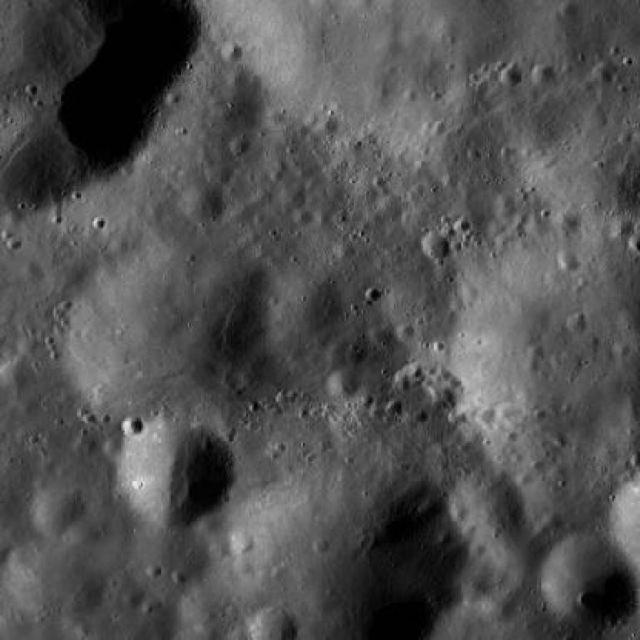crater: (65, 233, 288, 442), (116, 415, 236, 528), (541, 533, 640, 629), (8, 534, 104, 626), (270, 265, 346, 338), (447, 468, 524, 540), (180, 580, 242, 640), (492, 526, 548, 580), (34, 488, 88, 538), (447, 556, 496, 604), (182, 184, 222, 221), (482, 590, 518, 624), (67, 518, 101, 551), (326, 370, 359, 401), (422, 232, 451, 260), (435, 16, 463, 42), (378, 194, 404, 220), (0, 362, 26, 388), (196, 513, 222, 536), (228, 201, 252, 224), (554, 212, 578, 234), (532, 63, 556, 85), (421, 498, 444, 520), (370, 323, 393, 345), (611, 216, 634, 238), (230, 530, 253, 552), (314, 115, 338, 136), (208, 160, 230, 182), (500, 66, 523, 86), (558, 249, 580, 269), (209, 537, 231, 557), (234, 556, 256, 576), (222, 40, 244, 60), (285, 186, 307, 206), (378, 36, 400, 56), (124, 417, 144, 437), (124, 588, 144, 607), (294, 208, 314, 227), (593, 65, 613, 84), (568, 314, 588, 332), (587, 110, 607, 128), (478, 408, 496, 426), (104, 437, 122, 455), (544, 510, 561, 528), (347, 347, 365, 364), (20, 260, 38, 277), (230, 136, 248, 153), (393, 374, 410, 391), (20, 336, 38, 352), (398, 323, 414, 340), (613, 341, 630, 357), (336, 241, 353, 257), (578, 593, 594, 609), (560, 0, 577, 15), (627, 234, 640, 250)
